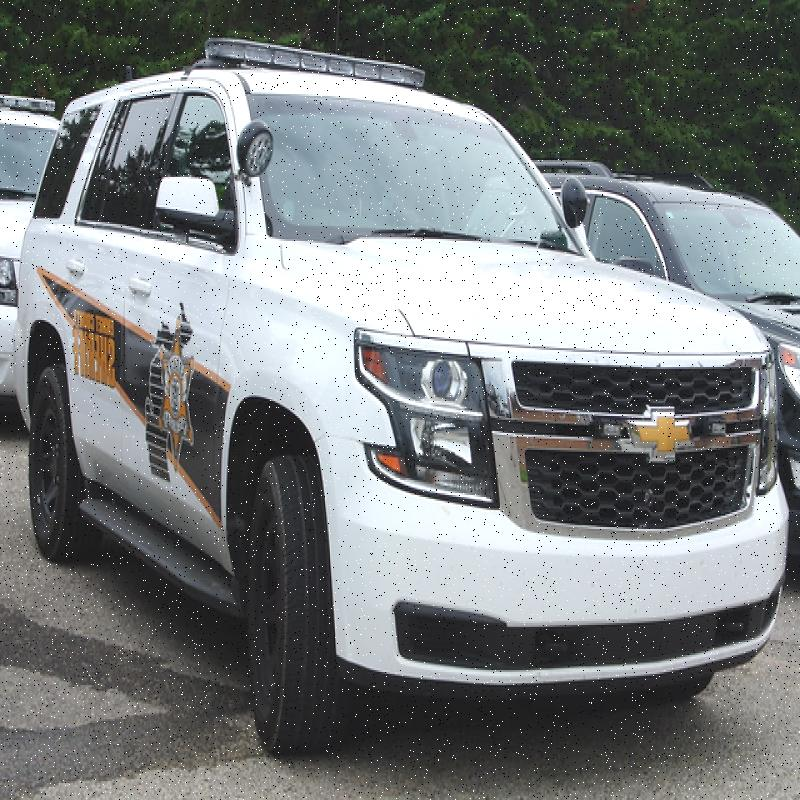AmbulanceSiren: (213, 11, 441, 80)
